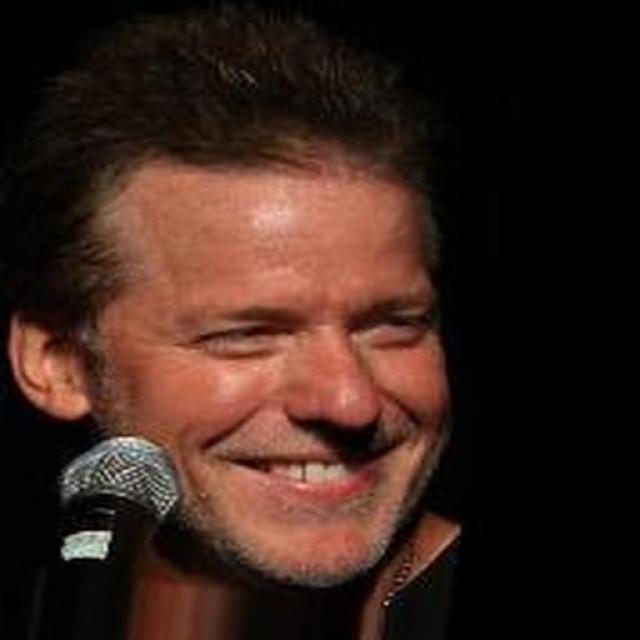bareface: (88, 132, 470, 598)
